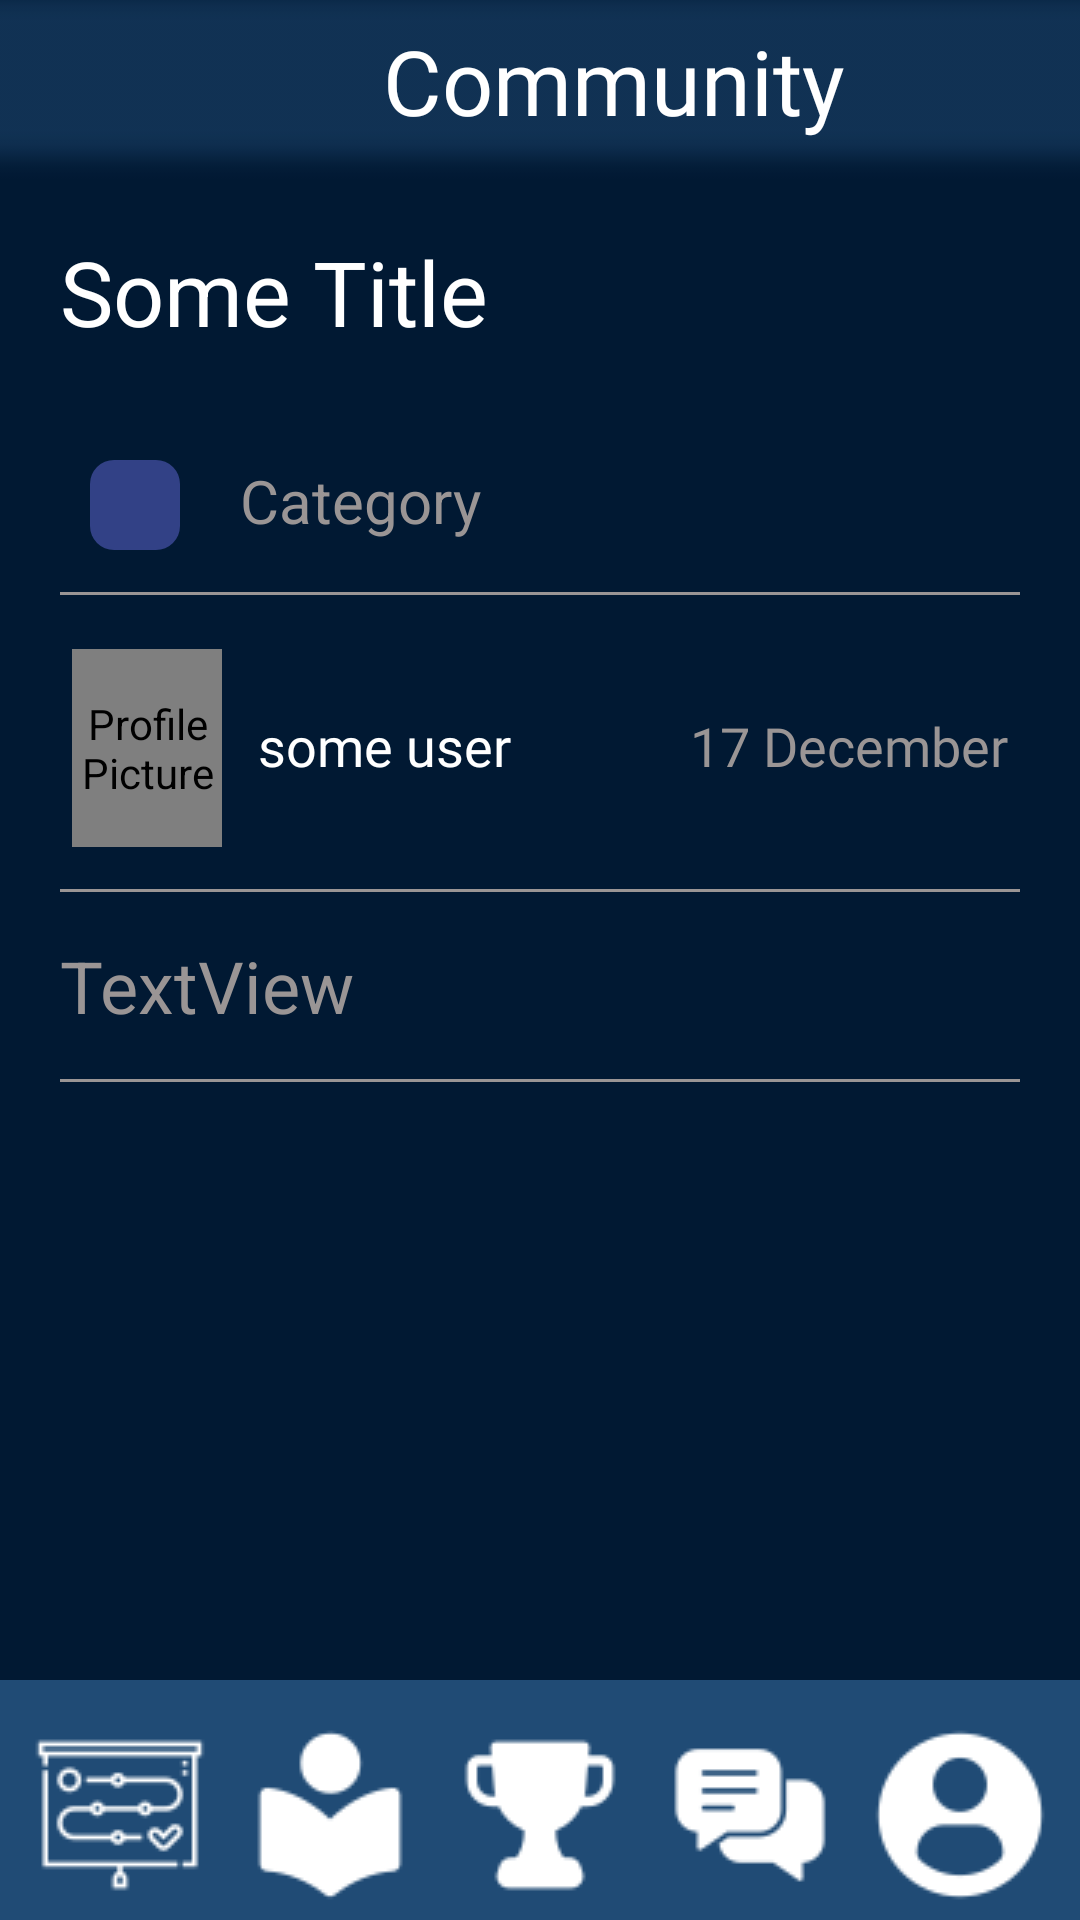

Where icons sit on this 1080 x 1920 app screen, as (x1, y1, x2, y2):
Articles: (257, 1731, 403, 1897)
Forums: (674, 1748, 826, 1882)
Leaderboard: (464, 1739, 616, 1891)
Profile User: (876, 1731, 1044, 1899)
Roadmap: (36, 1739, 204, 1891)
